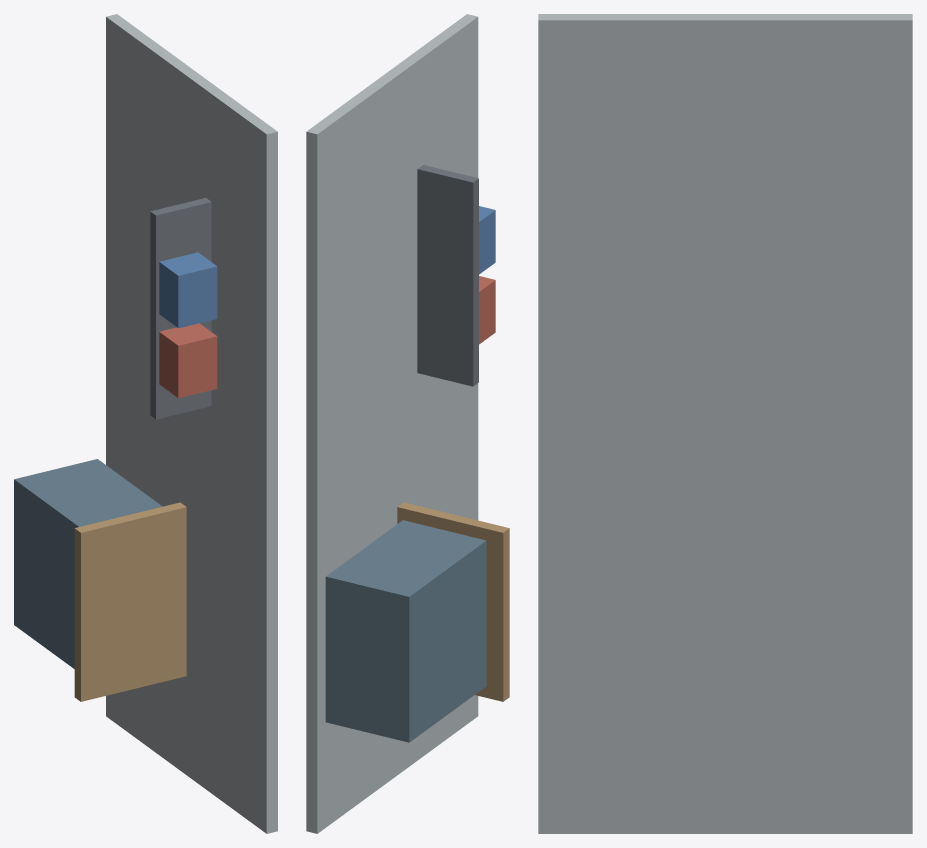
Rendered from demo_room.glb.
3 renders of one model, left to right at view 1: azimuth 30°, elevation 25°; view 2: azimuth 150°, elevation 25°; view 3: azimuth 270°, elevation 25°, orthographic. The views are drawn at different scales.
Visible parts, largest first — view 1: wall, worktop, cabinet, shelf, bin_blue, bin_red; view 2: wall, cabinet, shelf, worktop, bin_blue, bin_red; view 3: wall.
Part boxes in pixels (x1,y1,x2,y2): wall: (106, 14, 277, 833); worktop: (74, 502, 186, 701); cabinet: (14, 459, 162, 668); shelf: (150, 198, 211, 419); bin_blue: (159, 252, 217, 328); bin_red: (159, 323, 217, 398); wall: (306, 14, 478, 833); cabinet: (325, 520, 486, 742); shelf: (417, 165, 478, 386); worktop: (397, 502, 509, 701); bin_blue: (479, 206, 495, 274); bin_red: (479, 276, 495, 344); wall: (538, 14, 912, 833).
Bounding box in the file's own units: 0.215 × 1.2 × 0.5.
